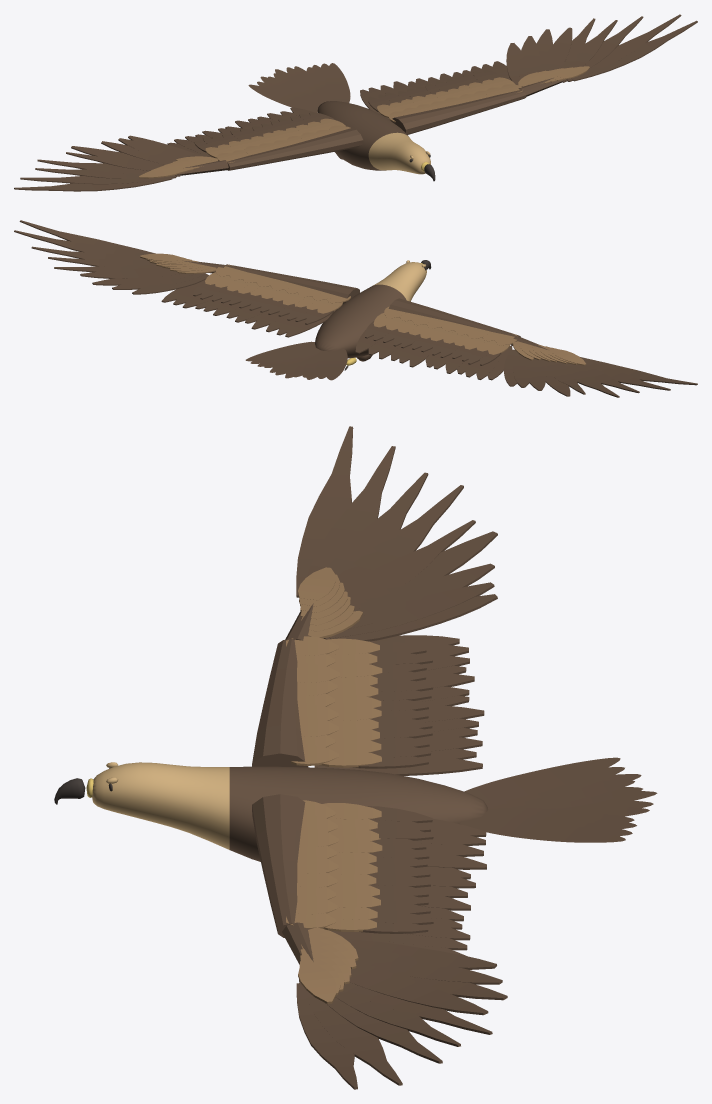
The model's file is eagle.glb.
The picture shows the model from 3 angles, top to bottom: view 1: azimuth 30°, elevation 25°; view 2: azimuth 150°, elevation 25°; view 3: azimuth 270°, elevation 25°; orthographic projection. The views are drawn at different scales.
Visible parts, largest first — view 1: Body, ArmL, HandR, ArmR, HandL; view 2: ArmR, ArmL, Body, HandR, HandL; view 3: Body, ArmR, ArmL, HandL, HandR.
Boxes of the visible parts, x1,y1,x2,y2 form: Body: [248, 63, 435, 181]; ArmL: [167, 107, 363, 170]; HandR: [506, 14, 697, 96]; ArmR: [360, 61, 526, 134]; HandL: [14, 135, 228, 191]; ArmR: [161, 264, 359, 337]; ArmL: [355, 298, 520, 380]; Body: [245, 260, 431, 380]; HandR: [14, 220, 224, 294]; HandL: [504, 336, 697, 397]; Body: [54, 757, 657, 861]; ArmR: [252, 794, 486, 956]; ArmL: [252, 635, 484, 775]; HandL: [285, 426, 497, 641]; HandR: [282, 922, 507, 1089].
Bounding box in the file's own units: 2.72 × 0.2069 × 1.05.
